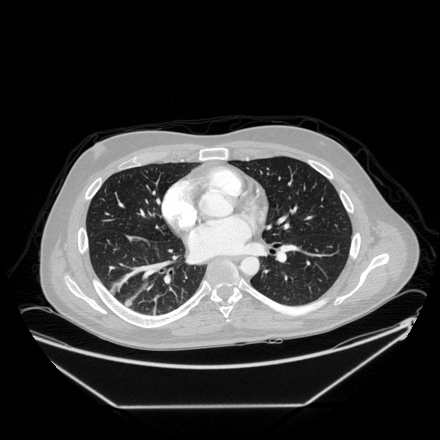nodule: (123, 298, 131, 306)
